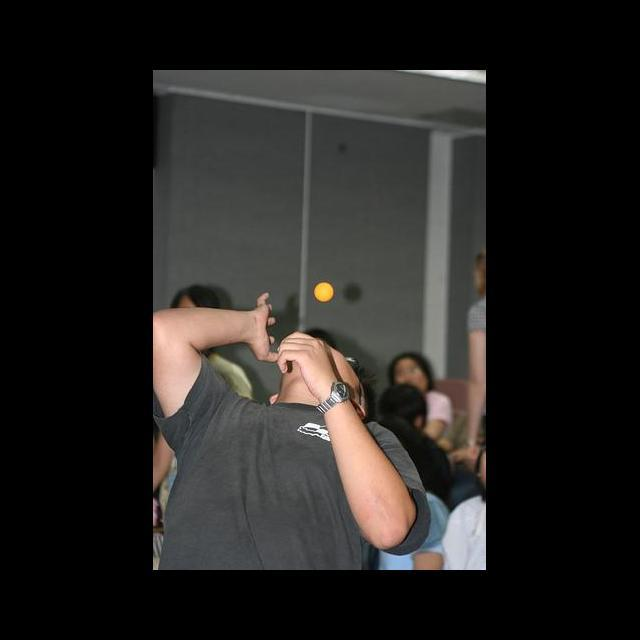ping-pong-ball: (313, 281, 337, 304)
